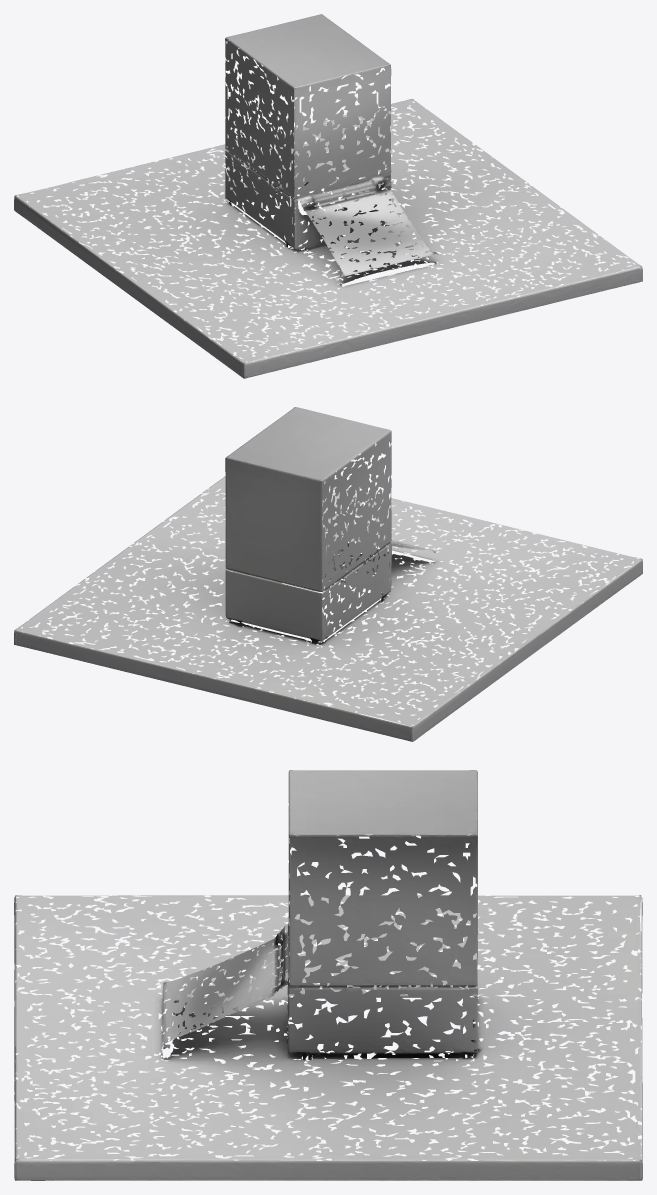
3 views of the same model, one above another, from view 1: azimuth 30°, elevation 25°; view 2: azimuth 150°, elevation 25°; view 3: azimuth 270°, elevation 25° (orthographic). The views are drawn at different scales.
Visible parts, largest first — view 1: geometry_0; view 2: geometry_0; view 3: geometry_0.
Boxes of the visible parts, x1,y1,x2,y2 form: geometry_0: (14, 14, 642, 378); geometry_0: (14, 407, 642, 741); geometry_0: (14, 770, 642, 1180).
Size of the model in its own units: 1 by 0.4347 by 1.
1 material, 1 textured.
